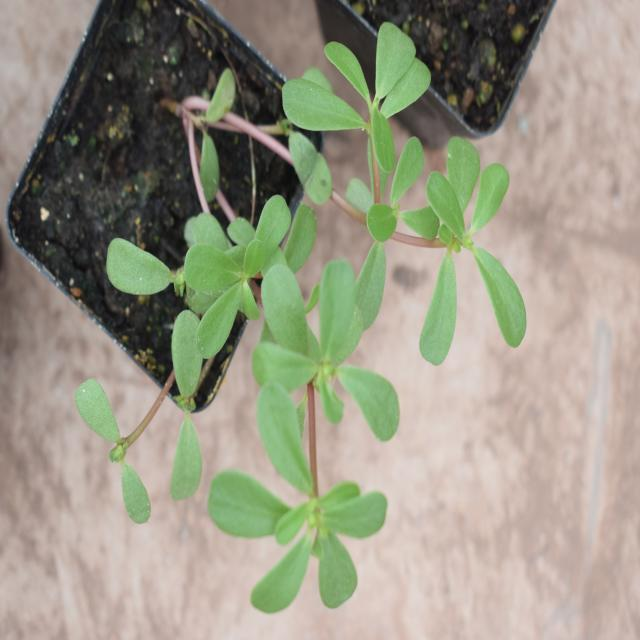purslane: (89, 41, 528, 610)
